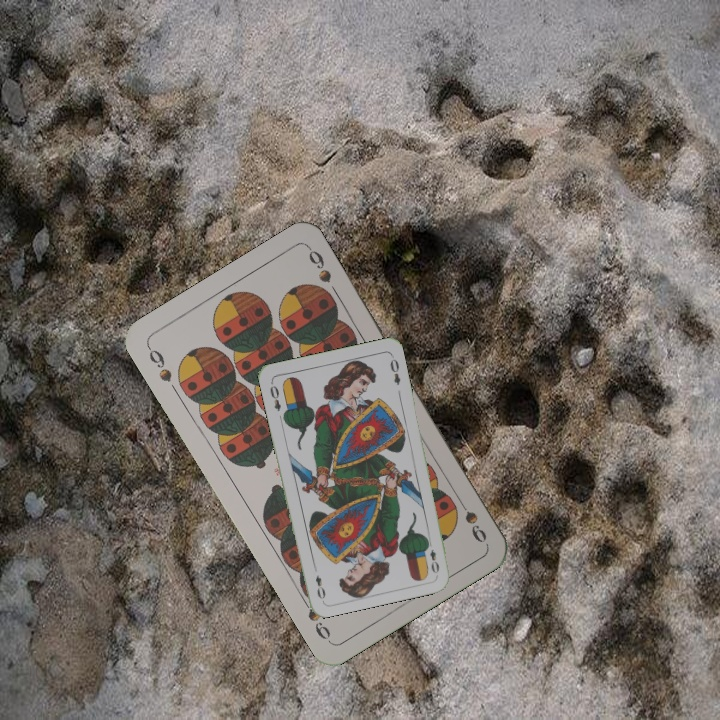EO: (423, 536, 442, 576), (266, 378, 283, 414)
S9: (452, 492, 490, 546), (143, 342, 175, 385)
